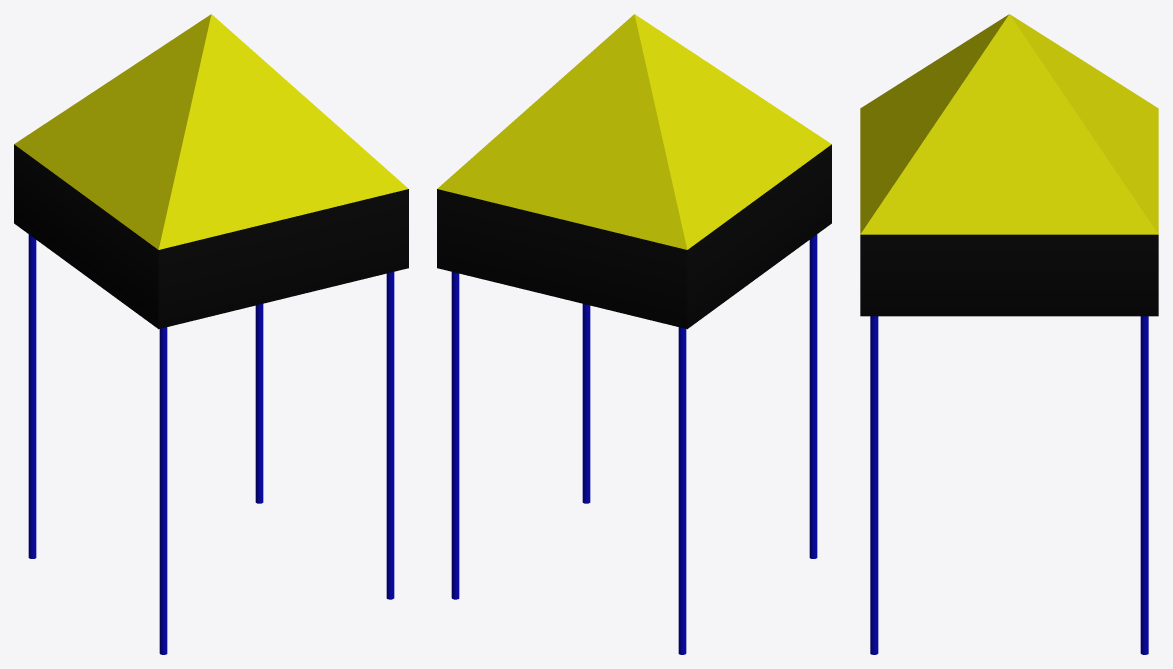
The model's file is Food Stand.fbx.
3 renders of one model, left to right at view 1: azimuth 30°, elevation 25°; view 2: azimuth 150°, elevation 25°; view 3: azimuth 270°, elevation 25°, orthographic. The views are drawn at different scales.
Parts seen in each view (by area): view 1: Food_Stand; view 2: Food_Stand; view 3: Food_Stand.
Boxes of the visible parts, box(x1,y1,x2,y2) form: Food_Stand: box(14, 14, 408, 654); Food_Stand: box(437, 14, 831, 654); Food_Stand: box(860, 14, 1158, 654).
Bounding box in the file's own units: 2.48 × 5.35 × 2.48.
